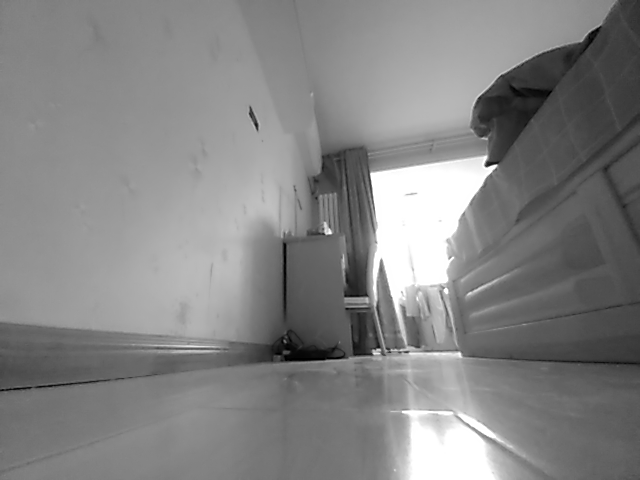curtain: (323, 145, 411, 356)
wire: (271, 328, 347, 364)
